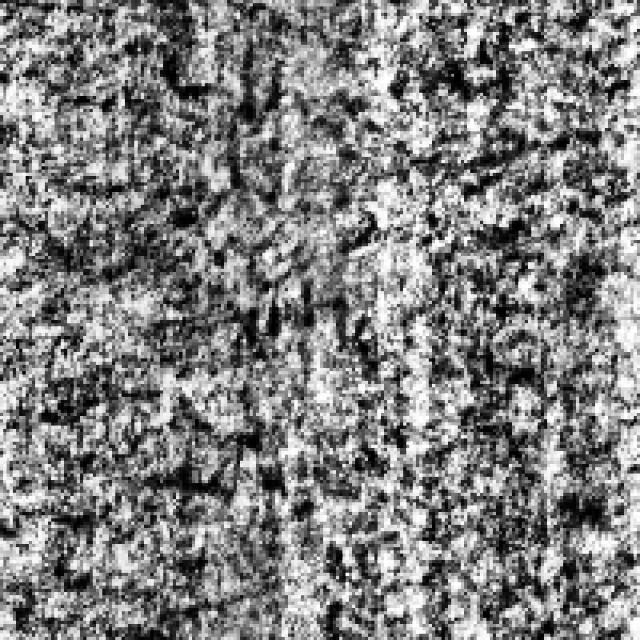Pitted_Surface: (144, 26, 368, 390)
